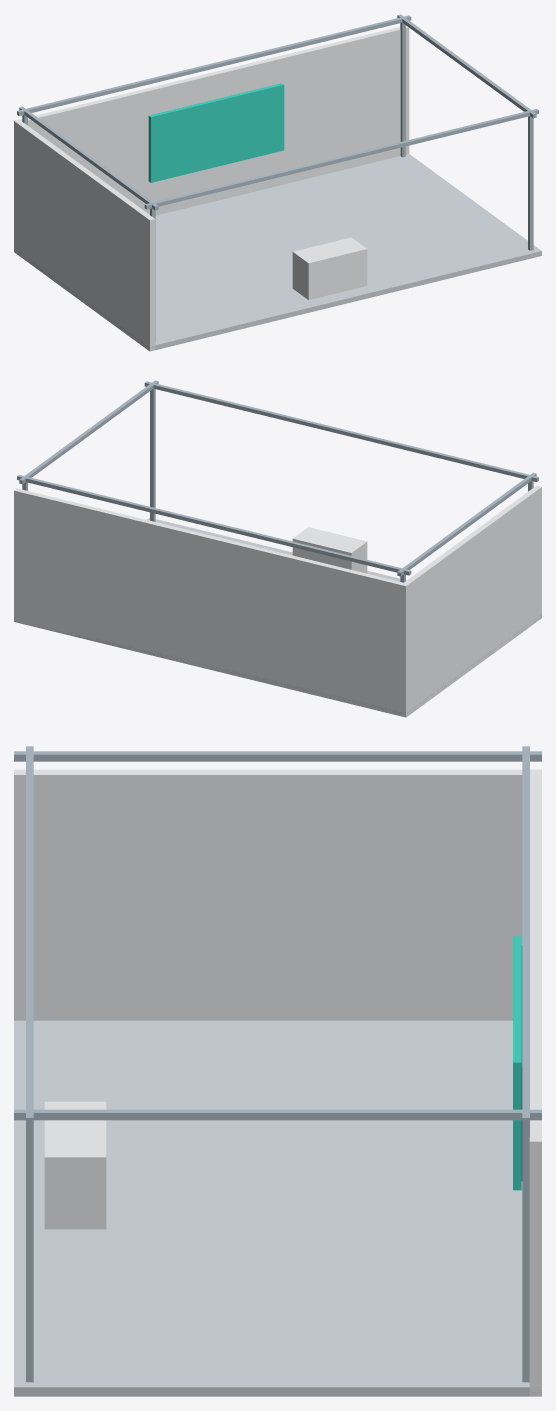
3 views of the same model, one above another, from view 1: azimuth 30°, elevation 25°; view 2: azimuth 150°, elevation 25°; view 3: azimuth 270°, elevation 25° (orthographic). The views are drawn at different scales.
Parts seen in each view (by area): view 1: Exhibition Booth Concept; view 2: Exhibition Booth Concept; view 3: Exhibition Booth Concept.
Part boxes in pixels (bbox=[...]): Exhibition Booth Concept: bbox=[14, 14, 541, 351]; Exhibition Booth Concept: bbox=[14, 380, 541, 717]; Exhibition Booth Concept: bbox=[14, 746, 541, 1396].
Bounding box in the file's own units: 10 × 3.49 × 6.
